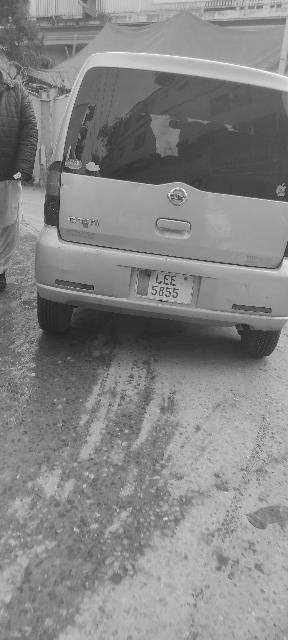Number: (150, 272, 181, 300)
